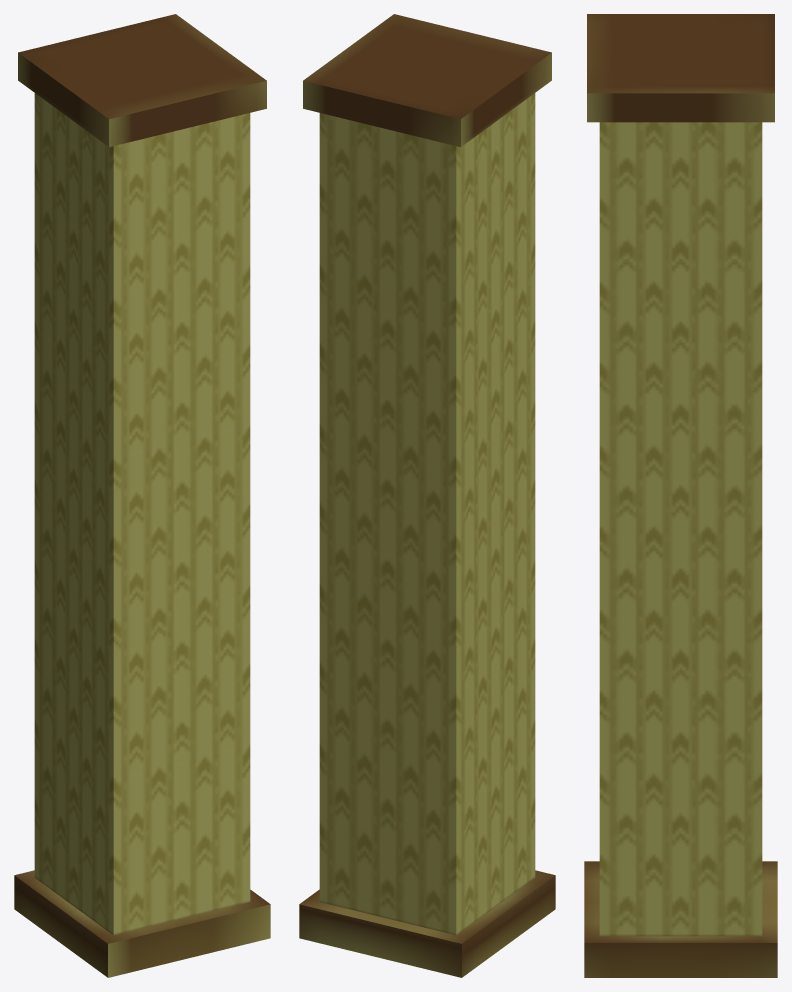
File: wall1.fbx
3 renders of one model, left to right at view 1: azimuth 30°, elevation 25°; view 2: azimuth 150°, elevation 25°; view 3: azimuth 270°, elevation 25°, orthographic. The views are drawn at different scales.
Parts seen in each view (by area): view 1: 立方體.004; view 2: 立方體.004; view 3: 立方體.004.
Part boxes in pixels (x1,y1,x2,y2): 立方體.004: [14, 14, 270, 977]; 立方體.004: [299, 14, 555, 977]; 立方體.004: [584, 14, 777, 977].
Size of the model in its own units: 100 by 504 by 100.
